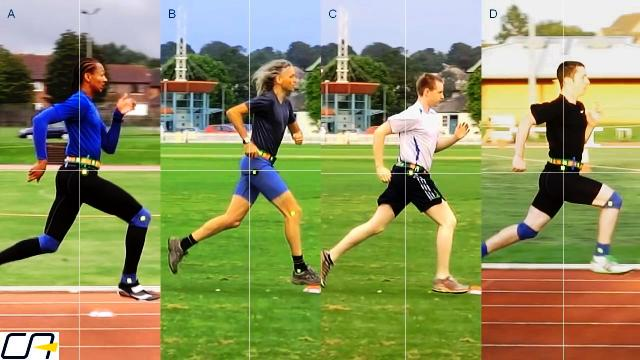berlari: (3, 50, 163, 301), (321, 64, 481, 305), (165, 58, 318, 294), (488, 53, 640, 283)
